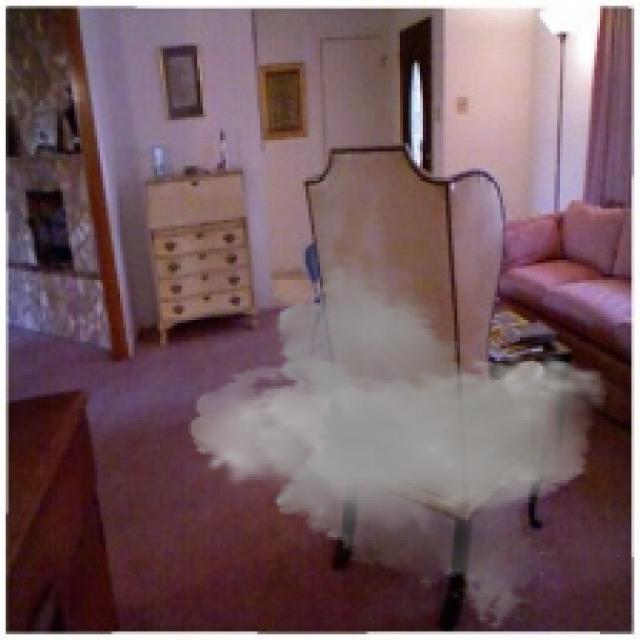Smoke: (188, 254, 608, 632)
